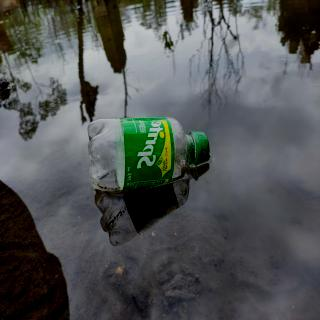bottle: (85, 111, 212, 197)
